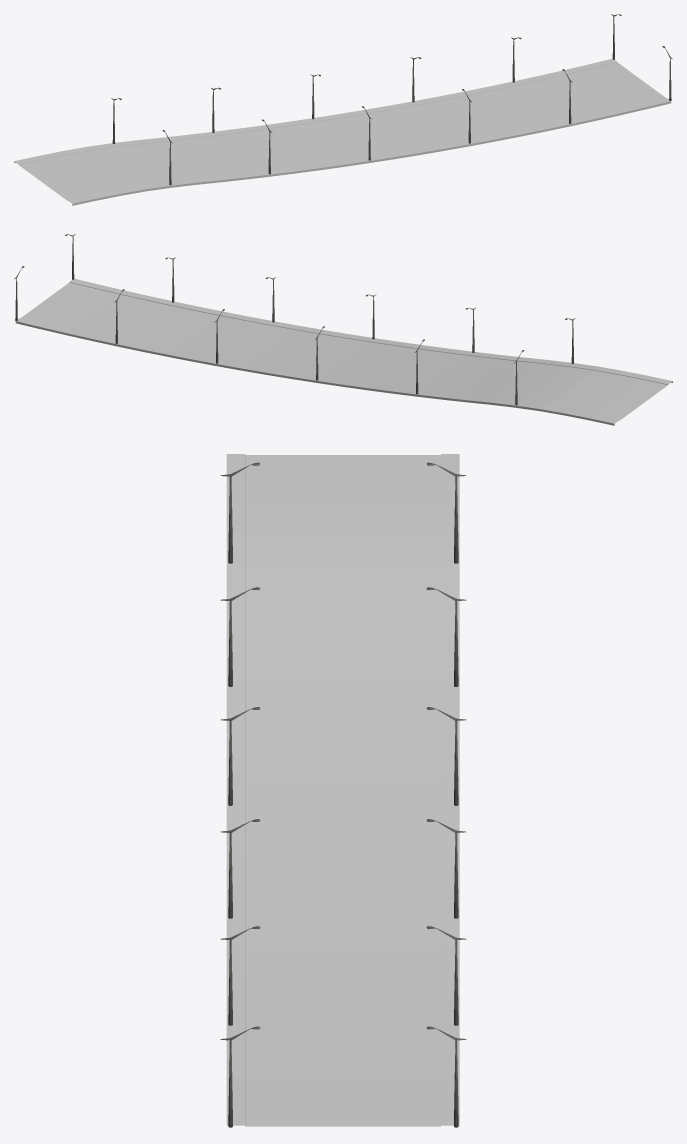
The model's file is Big_Road_UP_10_2.FBX.
3 renders of one model, top to bottom at view 1: azimuth 30°, elevation 25°; view 2: azimuth 150°, elevation 25°; view 3: azimuth 270°, elevation 25°, orthographic. The views are drawn at different scales.
Parts seen in each view (by area): view 1: Big_Road_up_10_2; view 2: Big_Road_up_10_2; view 3: Big_Road_up_10_2.
Part boxes in pixels (x1,y1,x2,y2): Big_Road_up_10_2: (14,58,671,205); Big_Road_up_10_2: (15,278,672,425); Big_Road_up_10_2: (226,454,459,1126).
Bounding box in the file's own units: 135 × 23.94 × 19.21.
